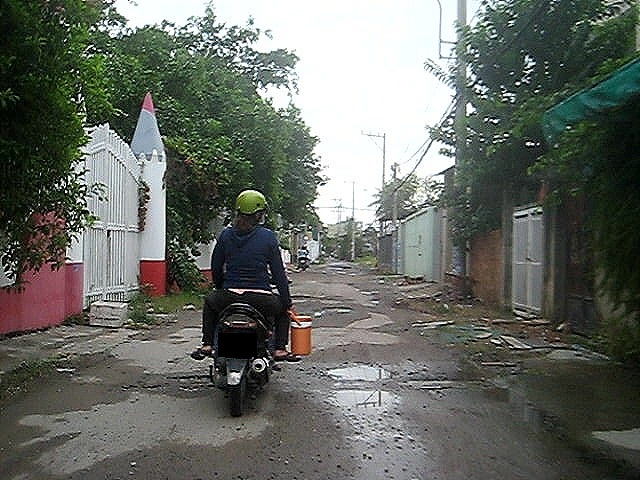hole: (325, 385, 400, 445), (304, 359, 401, 383), (167, 372, 213, 397), (312, 304, 352, 318), (119, 382, 166, 393), (291, 294, 330, 301), (356, 289, 380, 295), (368, 298, 382, 305)
